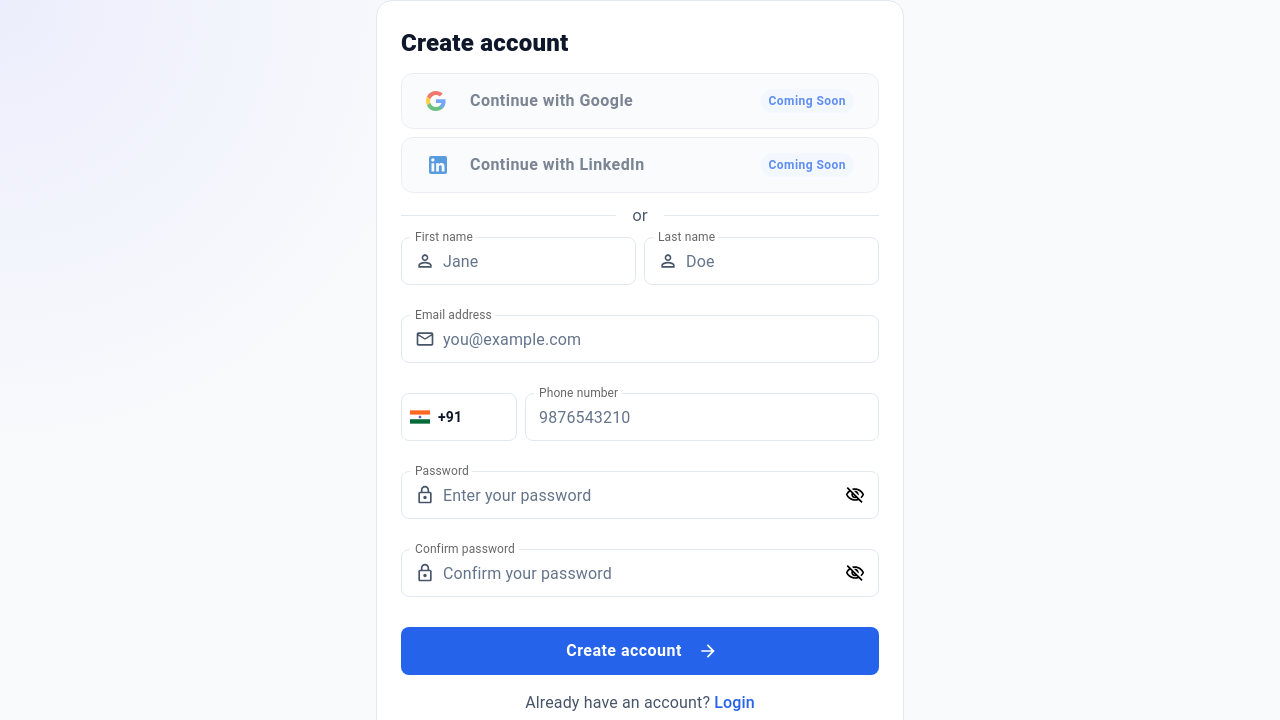
AuthForm › keeps national phone digits without a leading plus when dial code is separate
Type "+91 98765@43210" into the field labelled "Phone number" at (702, 417), box [525,406,879,428]
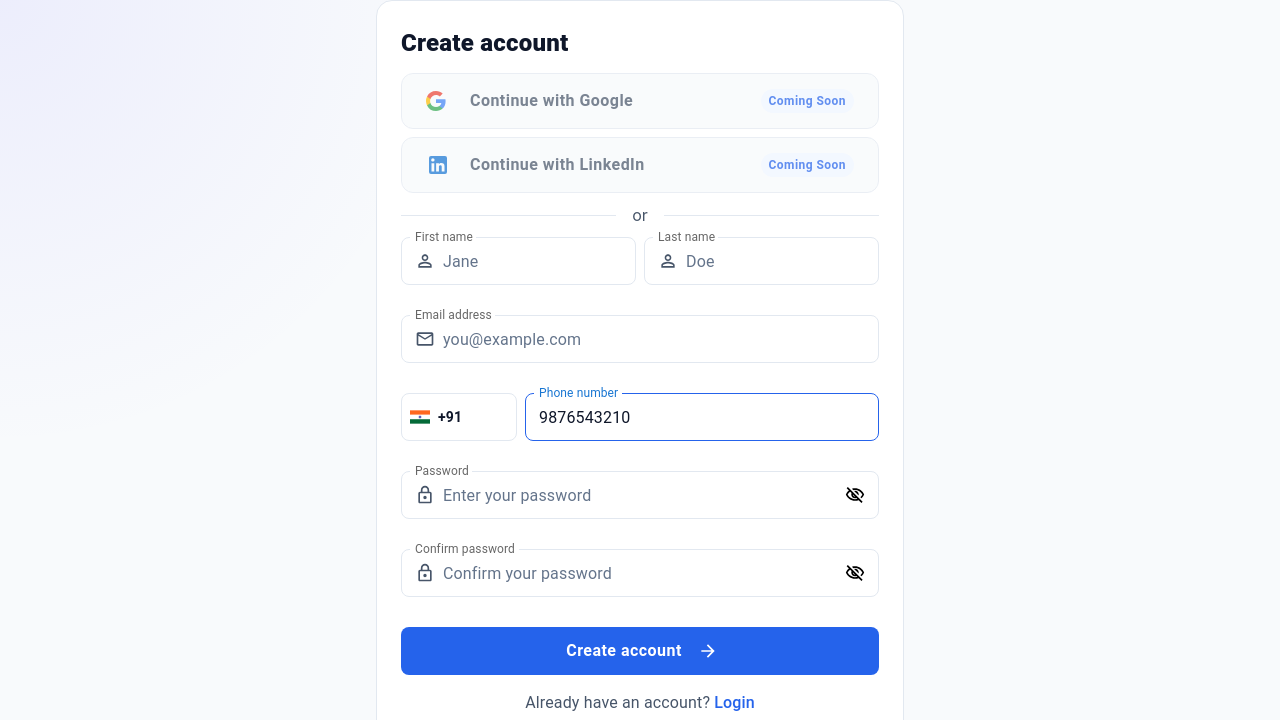
Now the field labelled "Phone number" holds "9876543210", box [525,406,879,428]
